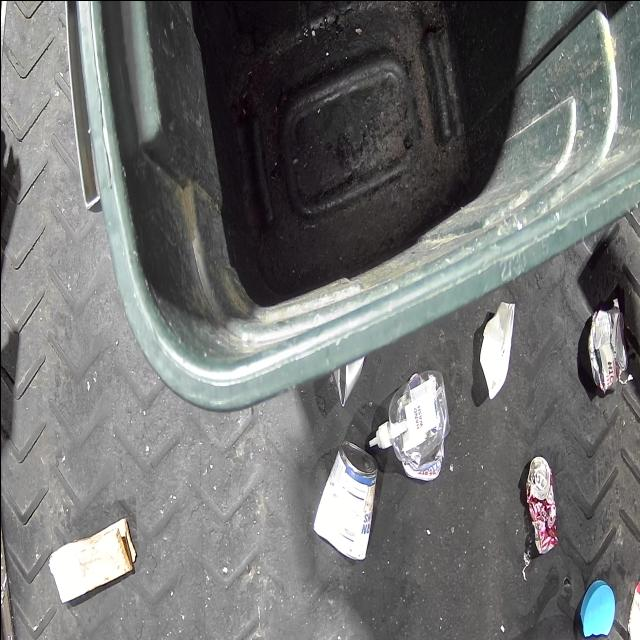can: (313, 440, 377, 558), (525, 454, 559, 554), (588, 306, 626, 392), (331, 358, 363, 405), (627, 568, 640, 639)
